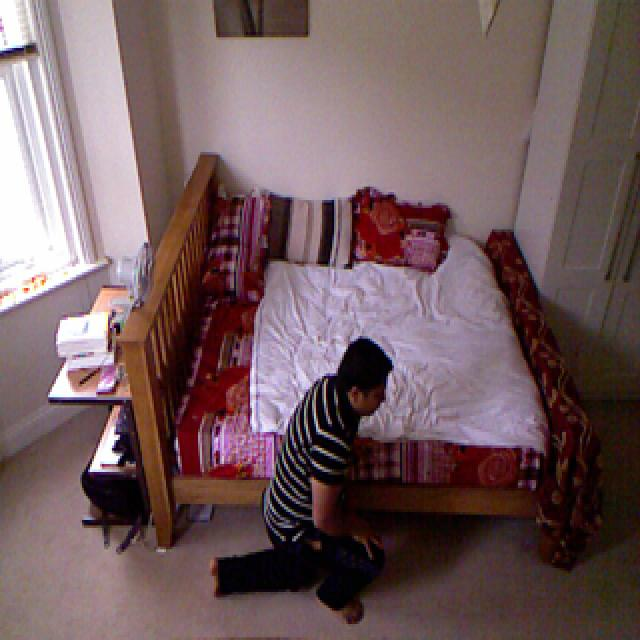crawling: (208, 334, 391, 615)
